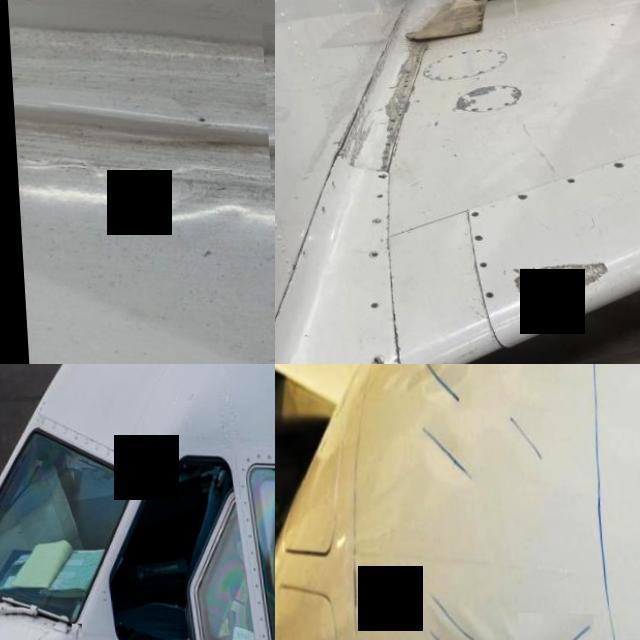Crack: (348, 69, 376, 111), (372, 42, 388, 62), (67, 623, 78, 640)
Dent: (420, 423, 470, 480), (548, 613, 590, 640)
Missing_Fastener: (364, 248, 376, 258), (365, 216, 378, 225), (479, 290, 489, 298), (472, 260, 482, 268), (367, 356, 376, 364), (297, 249, 303, 258), (316, 205, 322, 214), (369, 193, 379, 198), (562, 177, 572, 182), (372, 174, 383, 178)
